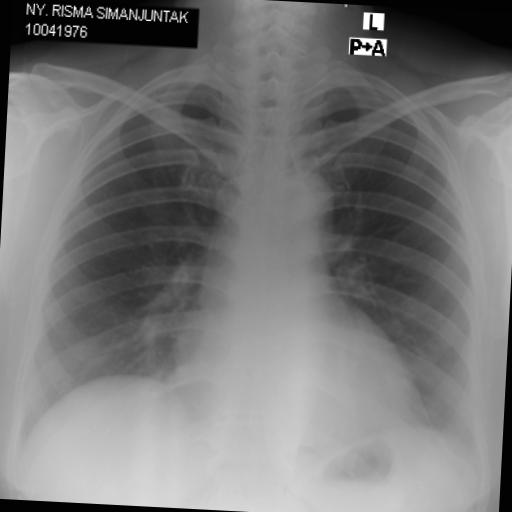kardiomegali: (157, 243, 442, 452)
